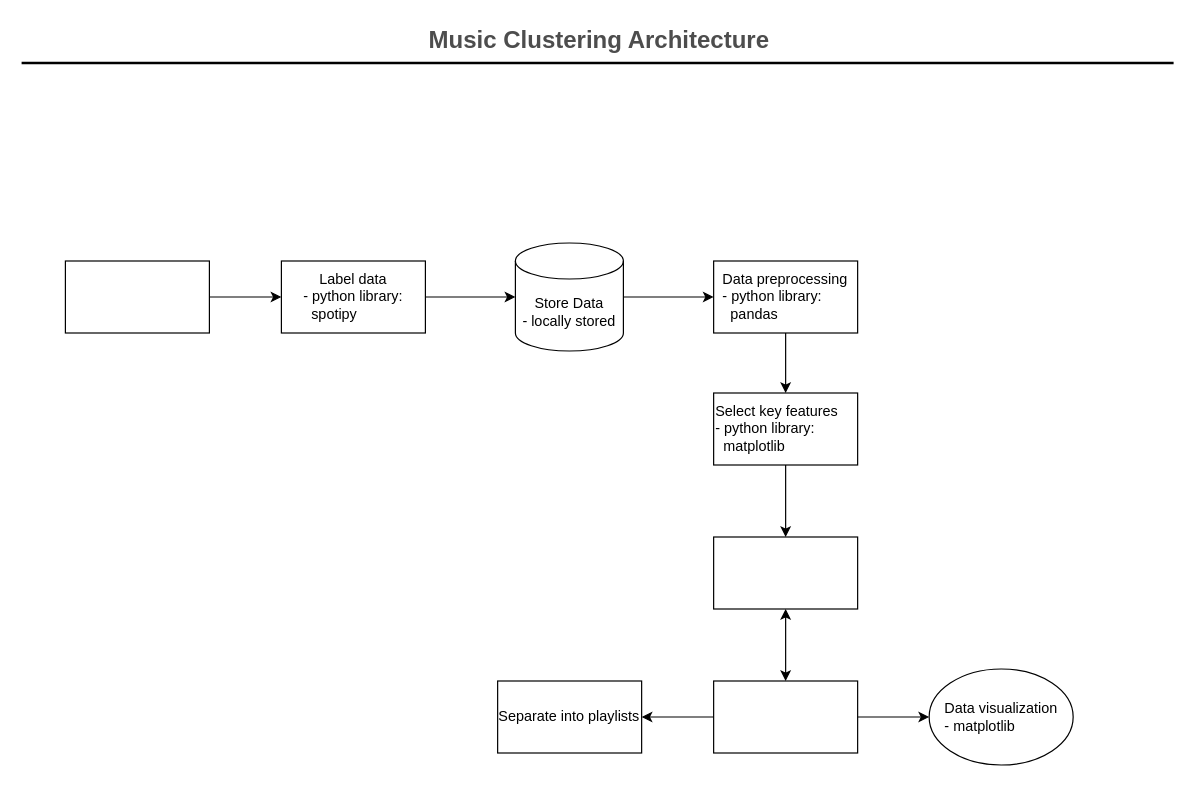
Some shapes in this 1195 by 786 pixel diagram are drawn without their labels. The shapes that lost their labels are listed below. From the top down, each one's centre as x and y in pixels, then its label:
At pixel 136 296: "Playlist from Spotify".
At pixel 785 572: "Train KNN model - python library: sklearn".
At pixel 785 716: "Evaluate model".
